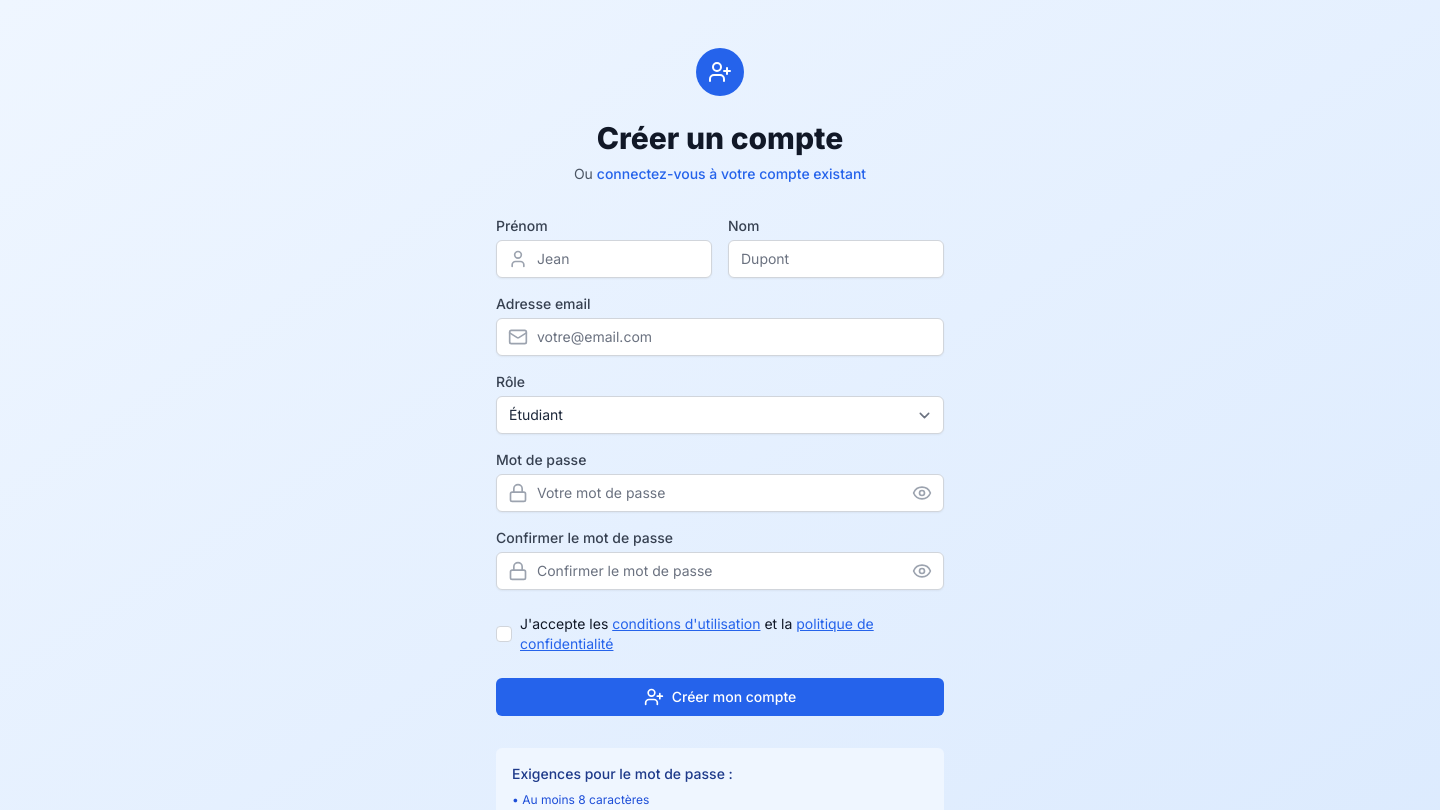
RegisterForm › Form Validation › shows error when first name is empty
Click the button "Créer mon compte": (720, 697) [496,678,944,716]
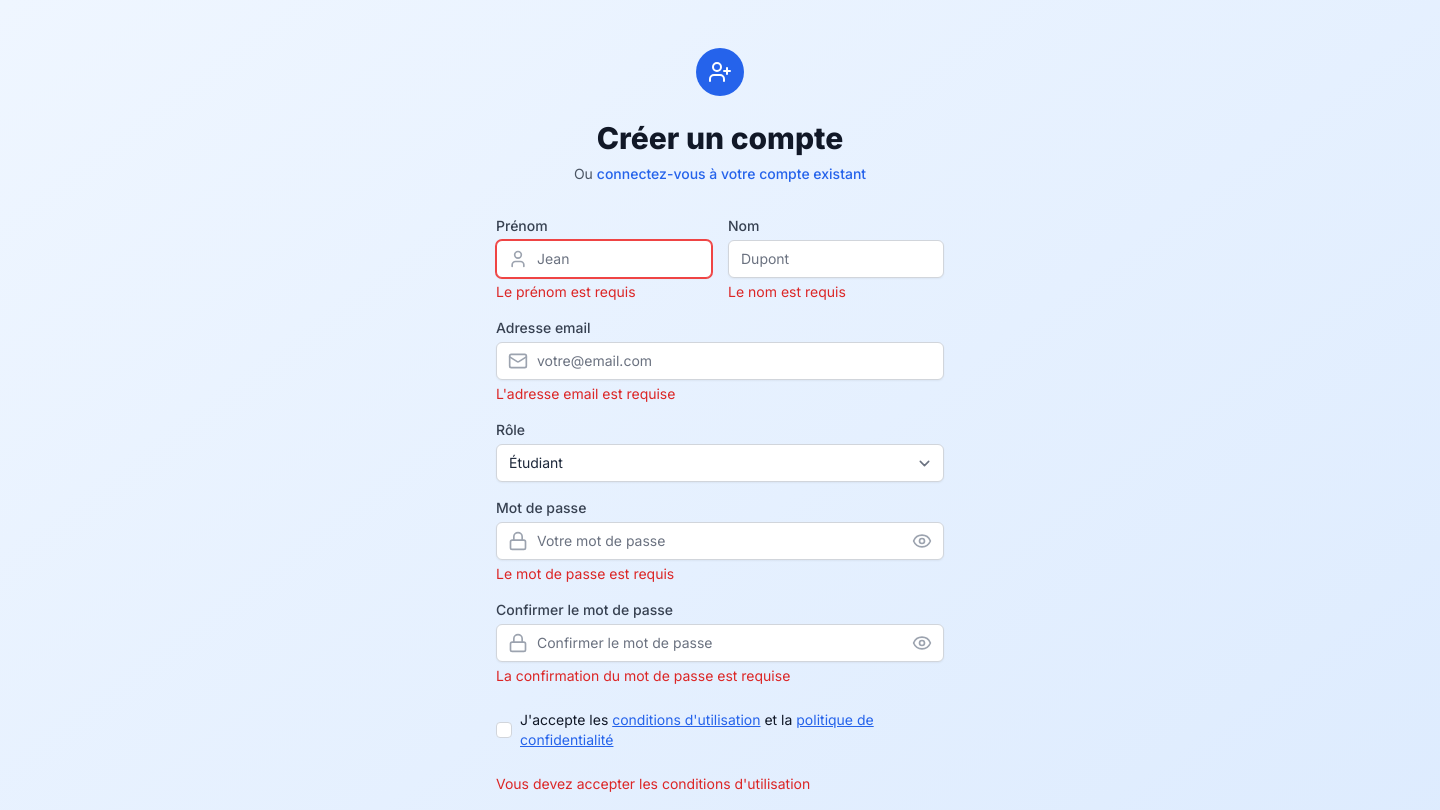
Check: the text "Le prénom est requis" is shown, box [496,283,636,300]
